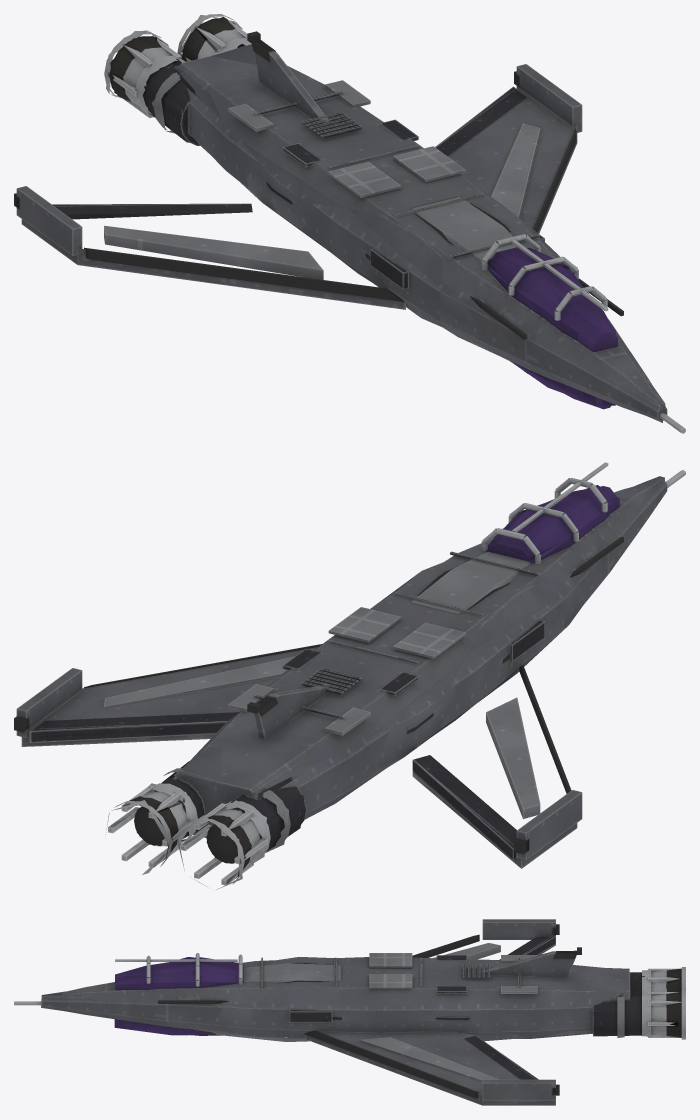
File: sd_ship_hayalet.glb
The picture shows the model from 3 angles, top to bottom: view 1: azimuth 30°, elevation 25°; view 2: azimuth 150°, elevation 25°; view 3: azimuth 270°, elevation 25°; orthographic projection. The views are drawn at different scales.
Parts seen in each view (by area): view 1: LOD0_body, LOD1_body; view 2: LOD0_body, LOD1_body; view 3: LOD0_body, LOD1_body.
Boxes of the visible parts, x1,y1,x2,y2 form: LOD0_body: [14, 14, 685, 433]; LOD1_body: [66, 15, 665, 422]; LOD0_body: [14, 462, 685, 885]; LOD1_body: [30, 476, 664, 889]; LOD0_body: [14, 919, 685, 1105]; LOD1_body: [38, 924, 685, 1105].
Size of the model in its own units: 0.5761 by 0.1399 by 1.
Materials: 1 (1 with a texture image).
